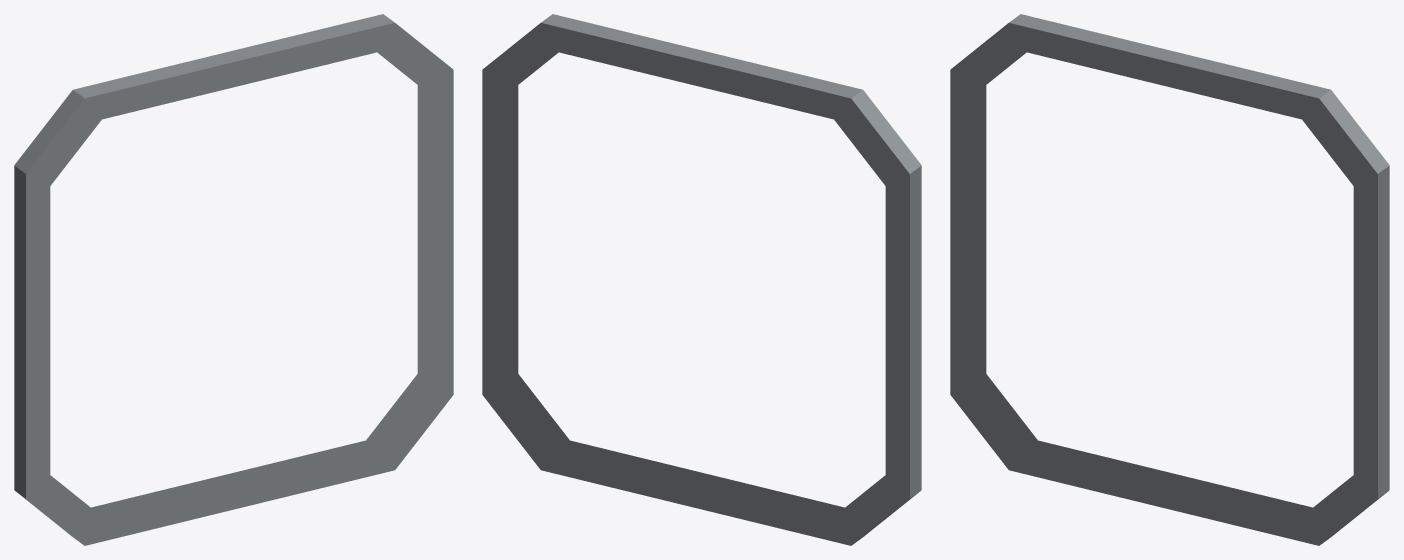
File: SM_Anillo_Acople.fbx
3 views of the same model, side by side, from view 1: azimuth 30°, elevation 25°; view 2: azimuth 150°, elevation 25°; view 3: azimuth 330°, elevation 25° (orthographic).
Parts seen in each view (by area): view 1: SM_Anillo_Acople; view 2: SM_Anillo_Acople; view 3: SM_Anillo_Acople.
Part boxes in pixels (x1,y1,x2,y2): SM_Anillo_Acople: [14, 14, 453, 545]; SM_Anillo_Acople: [482, 14, 921, 545]; SM_Anillo_Acople: [950, 14, 1389, 545].
Size of the model in its own units: 1.24 by 1.24 by 0.06.
